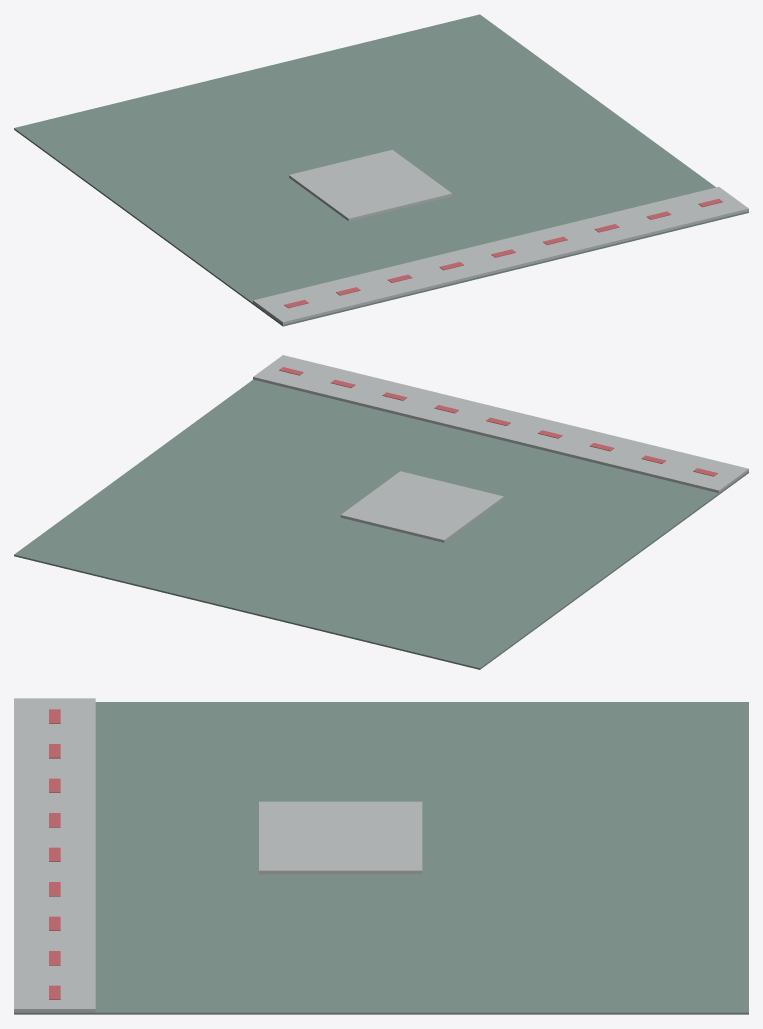
The model's file is stage_01.glb.
3 views of the same model, one above another, from view 1: azimuth 30°, elevation 25°; view 2: azimuth 150°, elevation 25°; view 3: azimuth 270°, elevation 25° (orthographic). The views are drawn at different scales.
Visible parts, largest first — view 1: geometry_0; view 2: geometry_0; view 3: geometry_0.
Boxes of the visible parts, x1,y1,x2,y2 form: geometry_0: (14, 14, 748, 326); geometry_0: (14, 355, 748, 669); geometry_0: (14, 698, 748, 1014).
Size of the model in its own units: 9 by 0.091 by 9.
